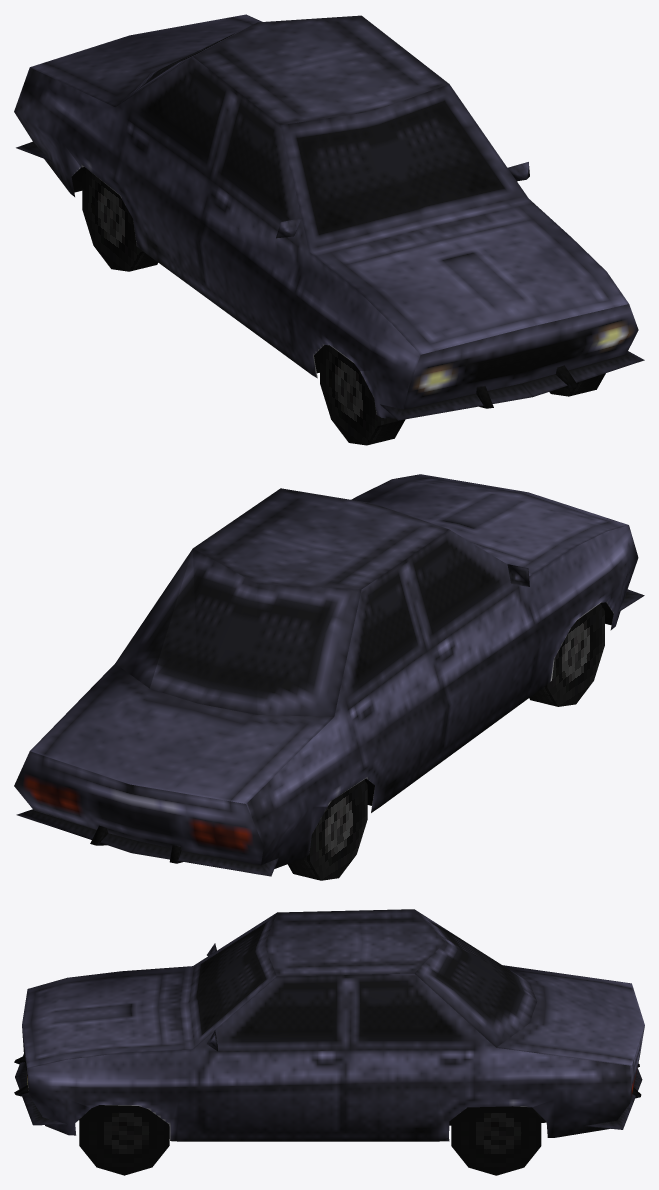
Rendered from car.gltf.
The picture shows the model from 3 angles, top to bottom: view 1: azimuth 30°, elevation 25°; view 2: azimuth 150°, elevation 25°; view 3: azimuth 270°, elevation 25°; orthographic projection. The views are drawn at different scales.
Parts seen in each view (by area): view 1: Car_Material.002_0, Tire.2_tire1.002_0, Tire.3_tire1.002_0; view 2: Car_Material.002_0, Tire.3_tire1.002_0, Tire.2_tire1.002_0; view 3: Car_Material.002_0, Tire.4_tire1.002_0, Tire.1_tire1.002_0.
Boxes of the visible parts, x1,y1,x2,y2 form: Car_Material.002_0: (14,14,644,420); Tire.2_tire1.002_0: (320,345,405,445); Tire.3_tire1.002_0: (82,169,157,271); Car_Material.002_0: (14,474,644,876); Tire.3_tire1.002_0: (287,779,367,880); Tire.2_tire1.002_0: (529,603,604,706); Car_Material.002_0: (14,909,644,1141); Tire.4_tire1.002_0: (451,1106,541,1175); Tire.1_tire1.002_0: (79,1105,169,1175).
Size of the model in its own units: 2.08 by 1.89 by 5.69.
5 materials, 5 textured.
